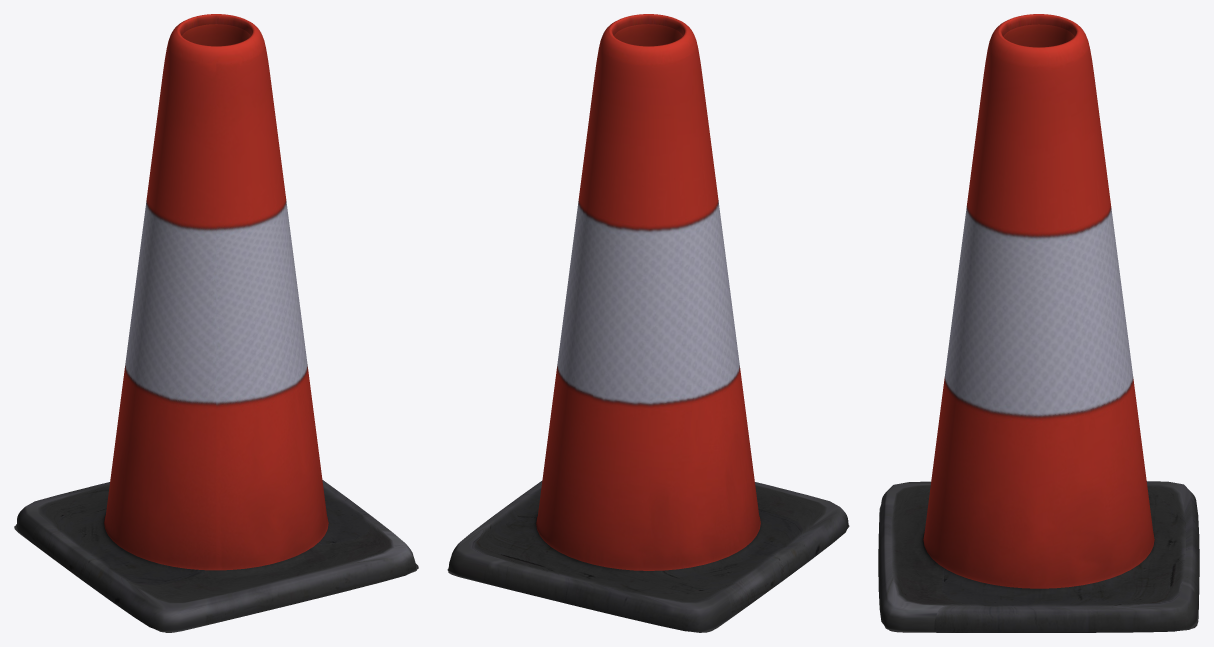
The model's file is TrafficCone.obj.
3 views of the same model, side by side, from view 1: azimuth 30°, elevation 25°; view 2: azimuth 150°, elevation 25°; view 3: azimuth 270°, elevation 25° (orthographic). The views are drawn at different scales.
Parts seen in each view (by area): view 1: 10572_TrafficCone_v02_L3; view 2: 10572_TrafficCone_v02_L3; view 3: 10572_TrafficCone_v02_L3.
Boxes of the visible parts, <box> form: 10572_TrafficCone_v02_L3: <box>14,14,418,632</box>; 10572_TrafficCone_v02_L3: <box>447,14,849,632</box>; 10572_TrafficCone_v02_L3: <box>878,14,1199,632</box>.
Size of the model in its own units: 0.1275 by 0.2339 by 0.1275.
